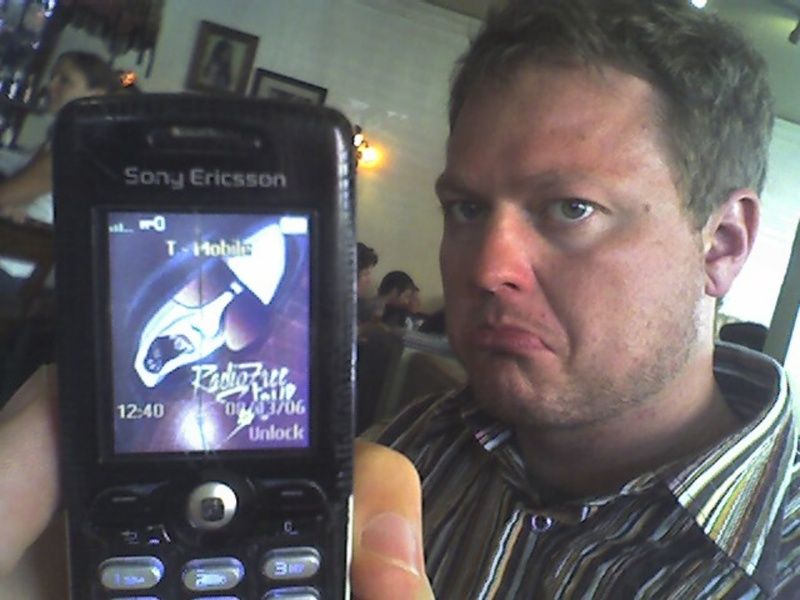Mobile Phone: (29, 79, 394, 600)
